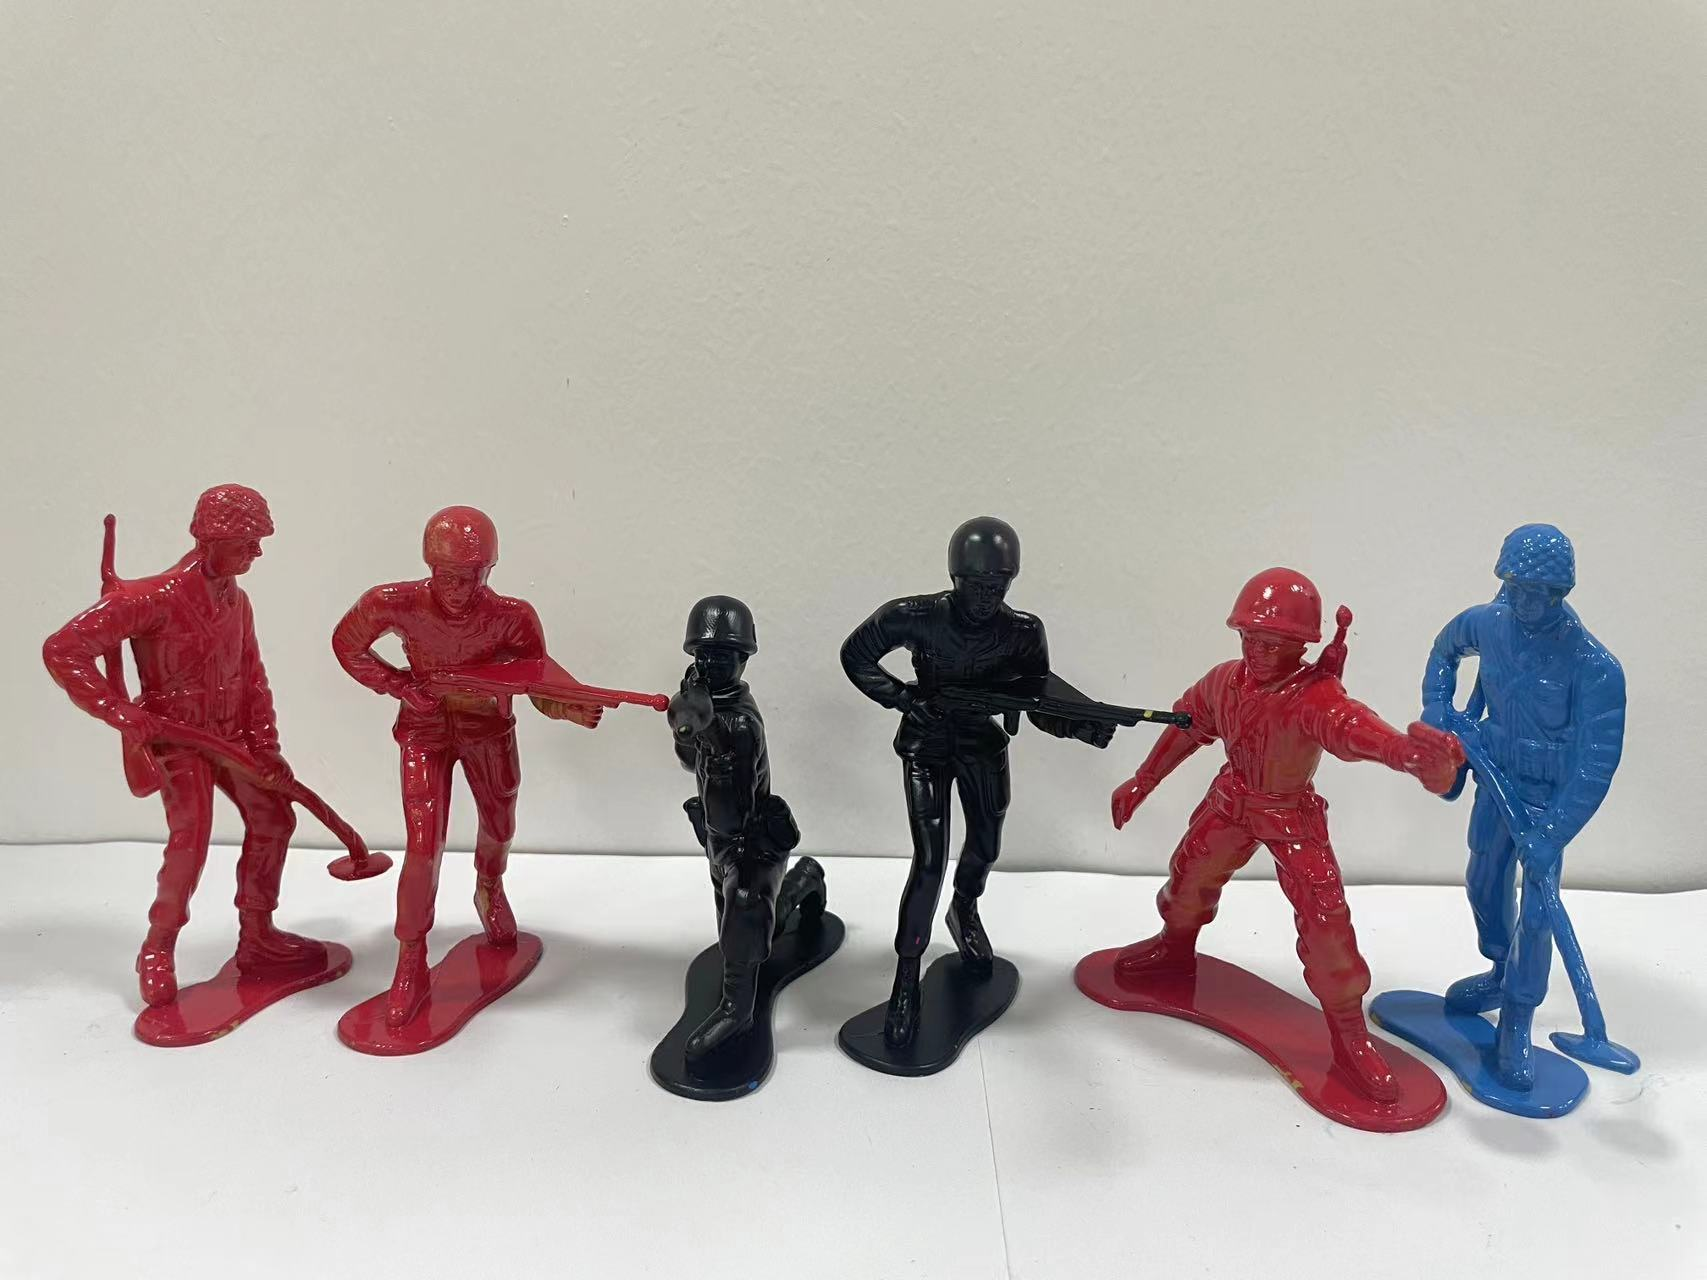black: (829, 481, 1116, 1131), (649, 573, 849, 1160)
blue: (1410, 481, 1702, 1189)
red: (306, 481, 661, 1089), (26, 467, 345, 1068), (1089, 567, 1415, 1133)
